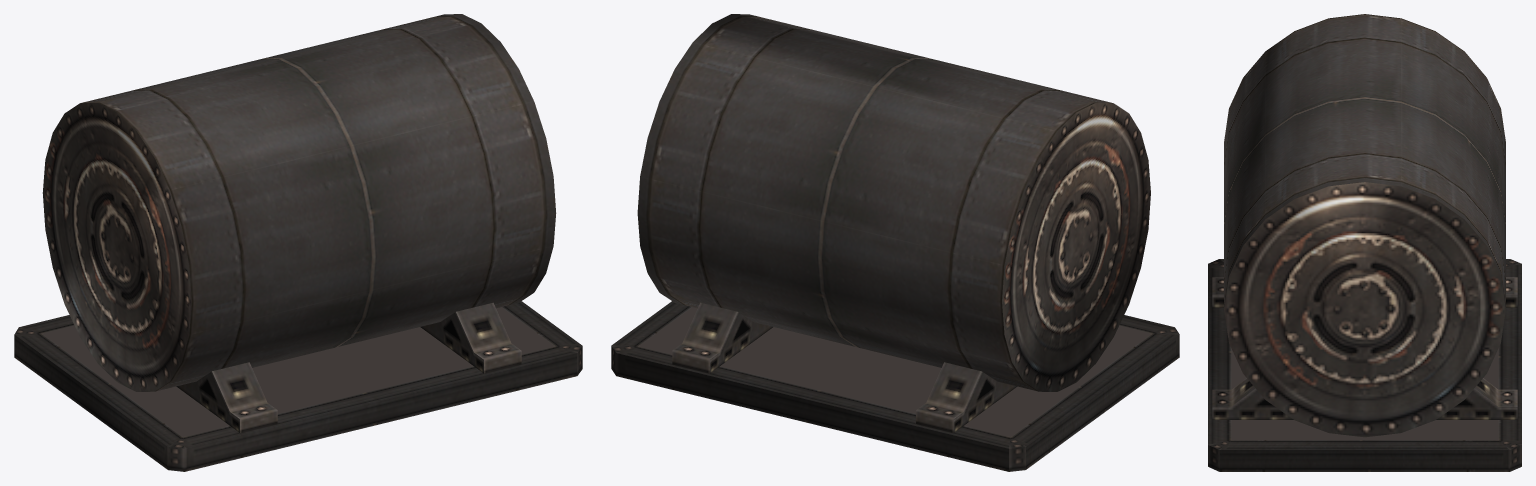
File: cistern_02.fbx
3 views of the same model, side by side, from view 1: azimuth 30°, elevation 25°; view 2: azimuth 150°, elevation 25°; view 3: azimuth 270°, elevation 25° (orthographic). The views are drawn at different scales.
Parts seen in each view (by area): view 1: Box117; view 2: Box117; view 3: Box117.
Boxes of the visible parts, <box> form: Box117: <box>14,14,582,471</box>; Box117: <box>611,14,1179,471</box>; Box117: <box>1208,14,1521,471</box>.
Bounding box in the file's own units: 704 × 479 × 488.
